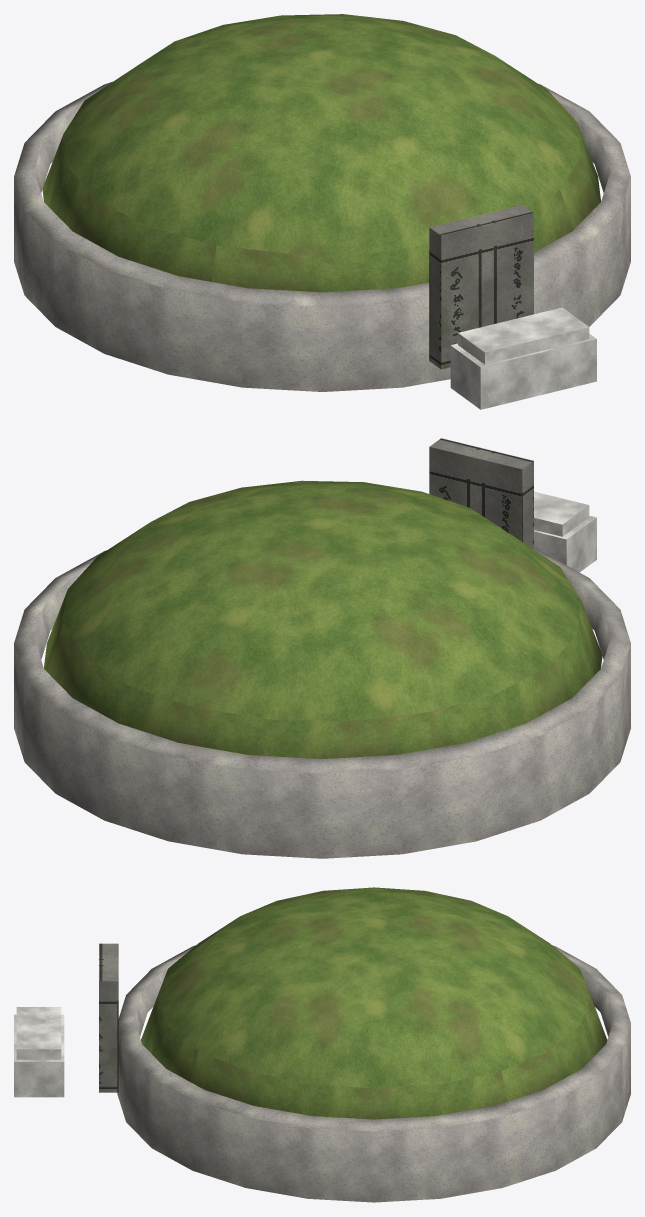
File: ancestral_tomb.glb
3 renders of one model, top to bottom at view 1: azimuth 30°, elevation 25°; view 2: azimuth 150°, elevation 25°; view 3: azimuth 270°, elevation 25°, orthographic. The views are drawn at different scales.
Parts seen in each view (by area): view 1: Mound, Ring, Tablet, Offering; view 2: Mound, Ring, Tablet, Offering; view 3: Mound, Ring, Offering, Tablet.
Part boxes in pixels (x1,y1,x2,y2): Mound: (42, 14, 600, 292); Ring: (14, 81, 630, 391); Tablet: (429, 204, 533, 369); Offering: (450, 307, 596, 409); Mound: (44, 480, 602, 758); Ring: (14, 548, 630, 858); Tablet: (429, 438, 533, 548); Offering: (534, 491, 596, 572); Mound: (141, 887, 607, 1119); Ring: (117, 945, 630, 1202); Offering: (14, 1007, 64, 1097); Tablet: (99, 943, 118, 1092).
Size of what is drawn, in the model's own units: 9.2 by 3.4 by 11.05.
Materials: 4 (4 with a texture image).
